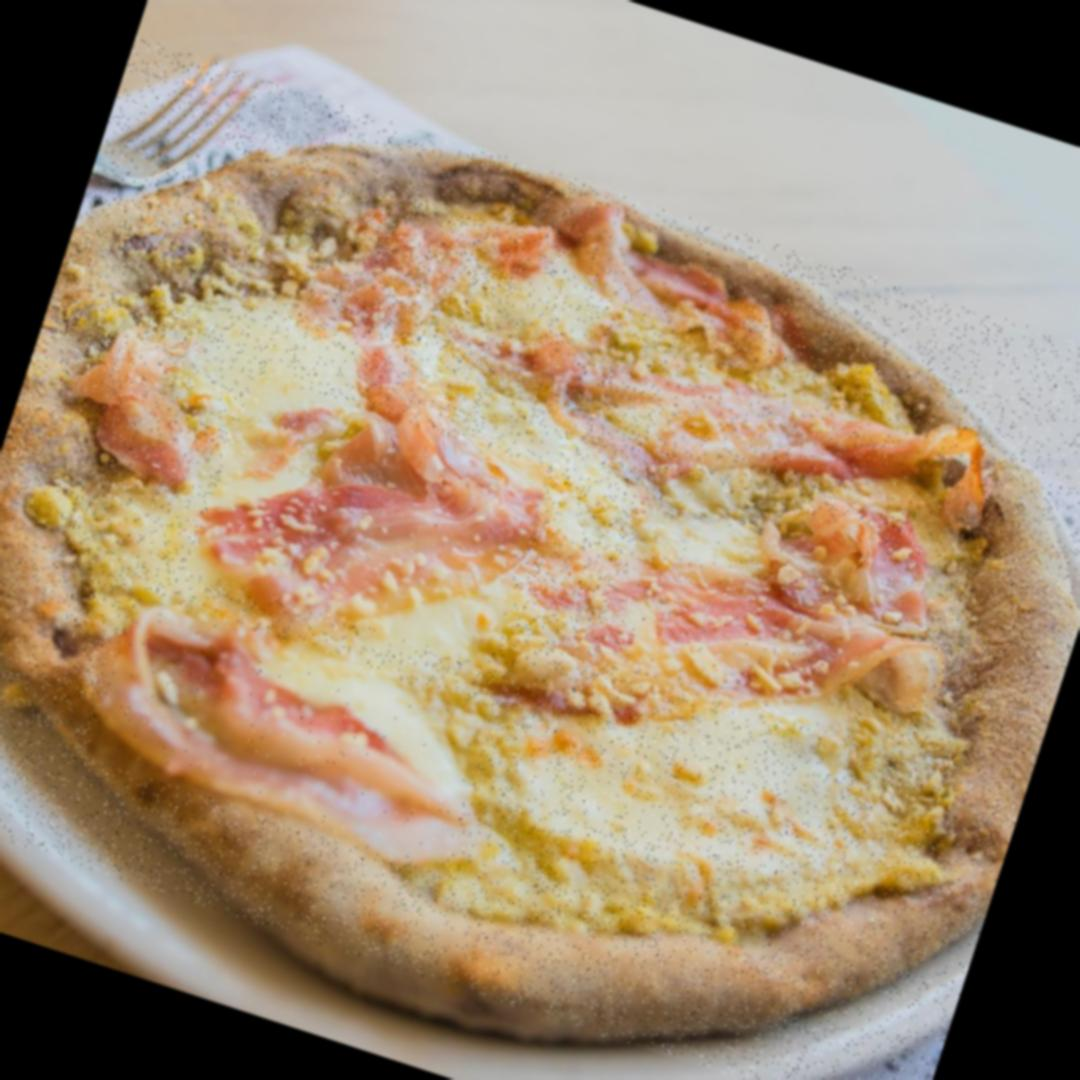Bacon: (88, 594, 494, 874), (190, 374, 548, 666), (599, 470, 957, 754), (616, 341, 982, 537), (332, 180, 533, 368), (564, 206, 750, 328), (78, 324, 217, 475)
Pizza: (0, 37, 1080, 1080)
